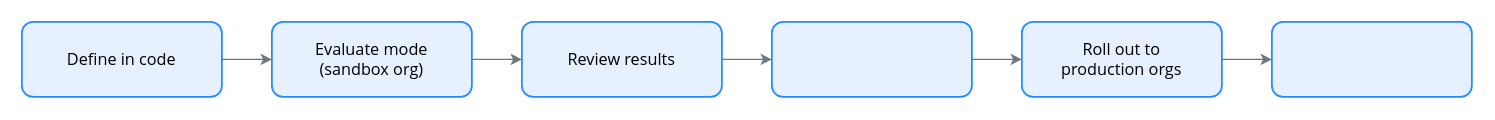
Some shapes in this 1495 by 120 pixel diagram are drawn without their labels. Here are the shapes that lost their labels. From the top down, the centre of each, then its label:
the point at 871,58: Active mode (sandbox org)
the point at 1371,58: Monitor & iterate
